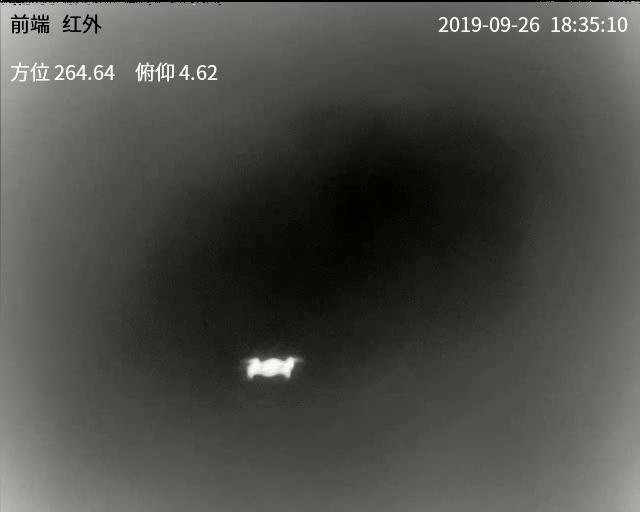DRONE: (241, 355, 298, 380)
